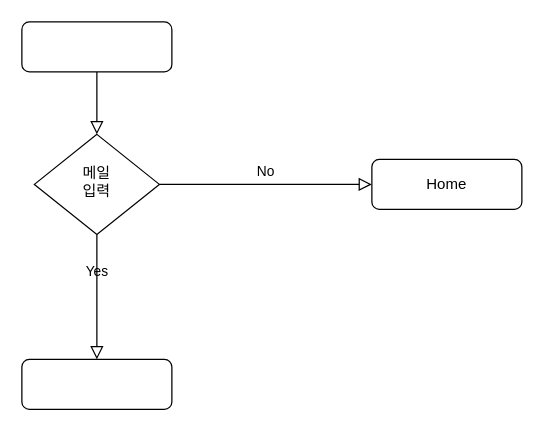
The diagram is 544 pixels wide and 431 high, and some of its shapes have lost their labels. The shapes that lost their labels are listed below. From the top down, each one's centre as x and y in pixels, then its label:
(x=96, y=46): start (Home)
(x=96, y=383): 메일 발송 (선택한 식당 메뉴)
